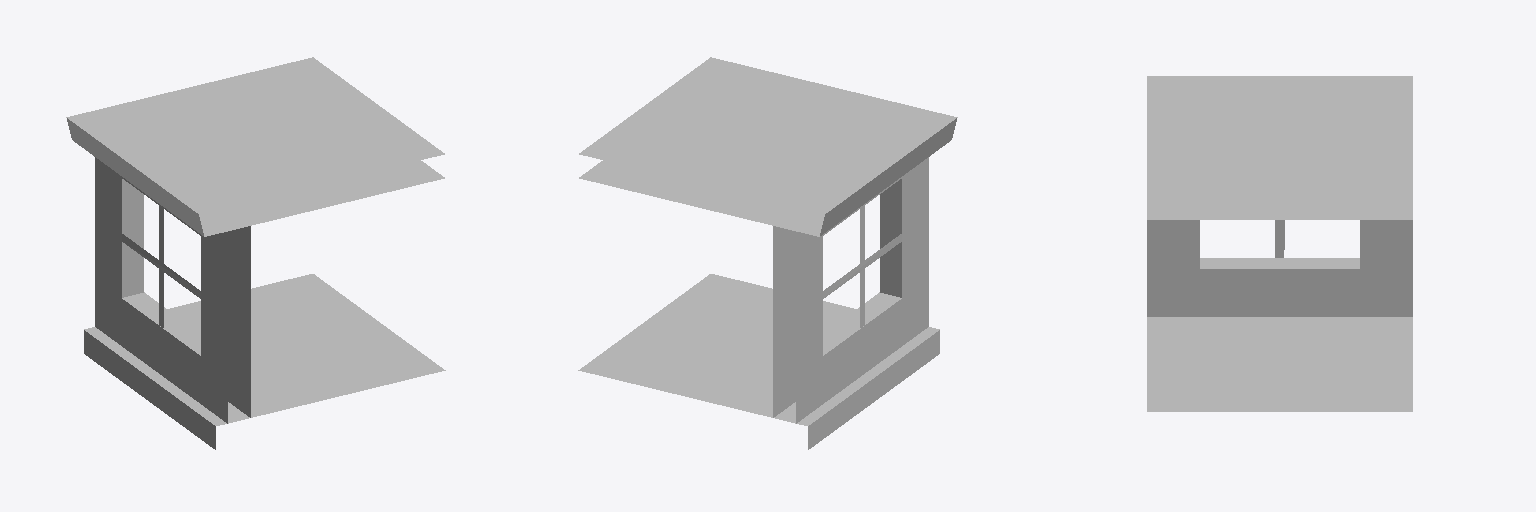
The picture shows the model from 3 angles: view 1: azimuth 30°, elevation 25°; view 2: azimuth 150°, elevation 25°; view 3: azimuth 270°, elevation 25°; orthographic projection.
Parts seen in each view (by area): view 1: objobjobjRegroup09; view 2: objobjobjRegroup09; view 3: objobjobjRegroup09.
Part boxes in pixels (x1,y1,x2,y2): objobjobjRegroup09: (66,57,445,449); objobjobjRegroup09: (578,57,957,449); objobjobjRegroup09: (1147,76,1412,411).
Bounding box in the file's own units: 10.75 × 10 × 10.